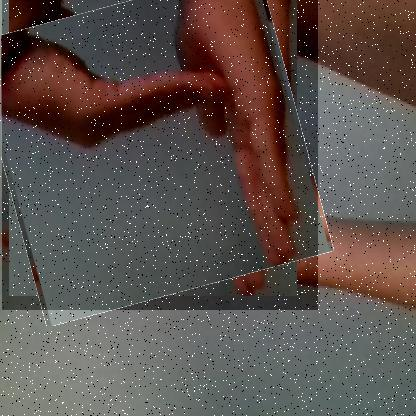Z: (1, 0, 318, 311)
